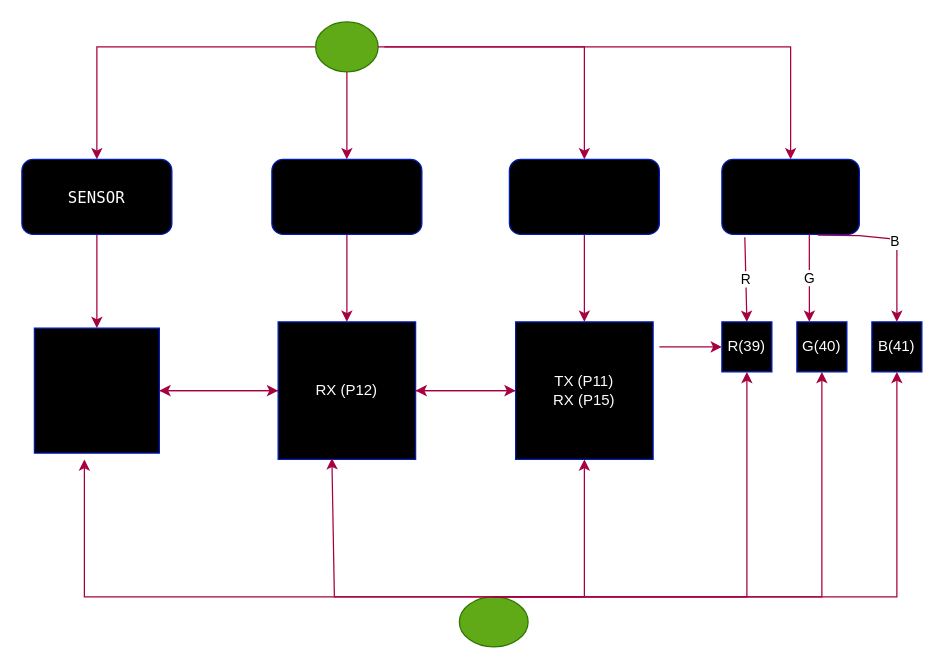
Image size: 944x669. Some labels were removed from this diagram. Each missing label, with the centre of its shape:
"+vcc" goes at [346,46].
"GND" goes at [493,621].
"LEDS" goes at [790,196].
"TX(P1)" goes at [96,390].
